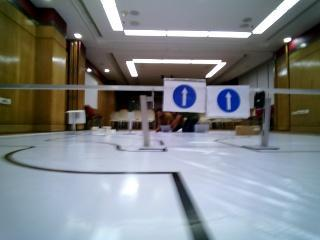straight: (165, 79, 206, 111), (210, 87, 250, 116)
